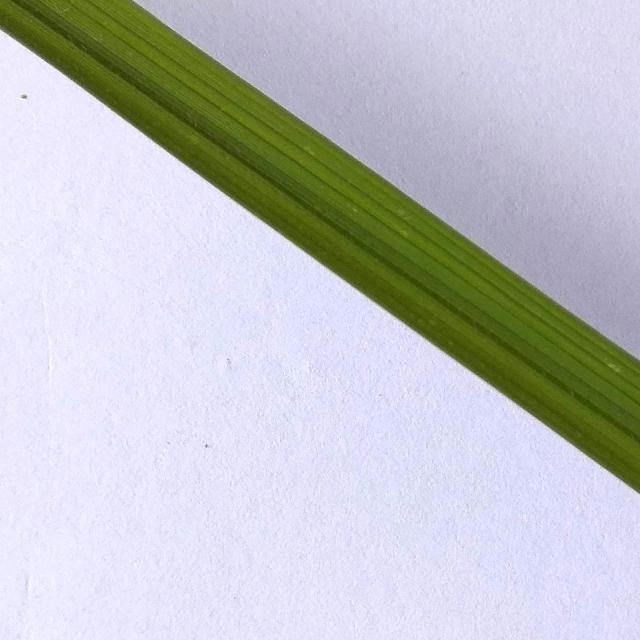healthy: (0, 0, 640, 498)
